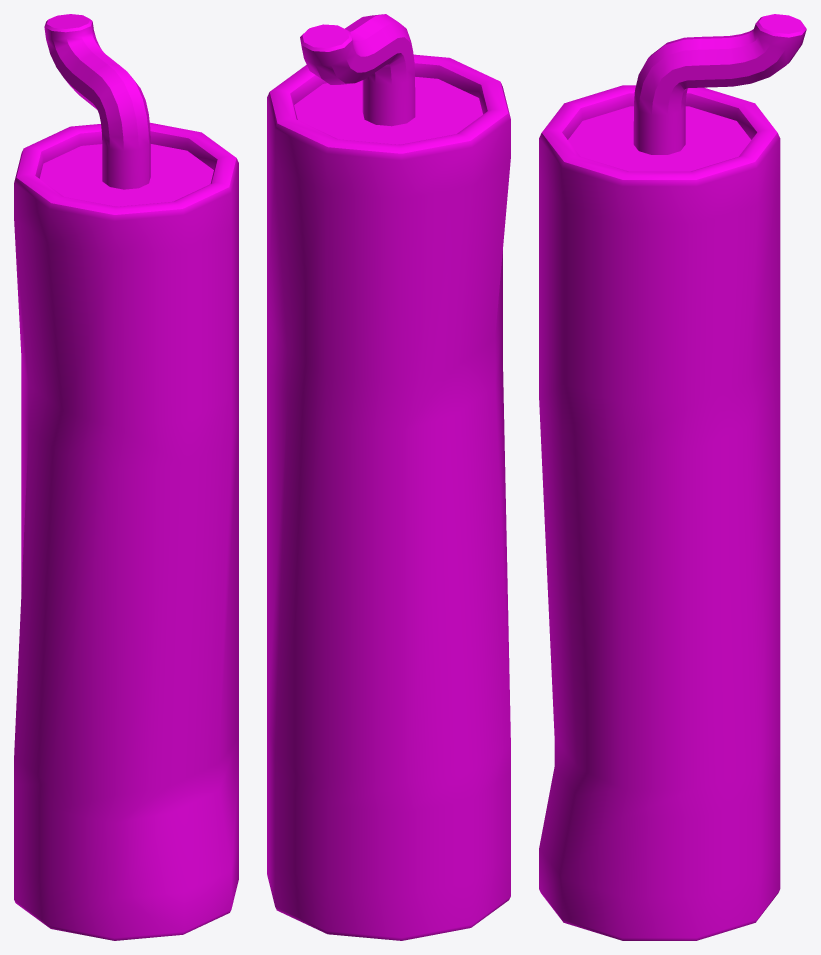
File: firecracker.fbx
3 views of the same model, side by side, from view 1: azimuth 30°, elevation 25°; view 2: azimuth 150°, elevation 25°; view 3: azimuth 270°, elevation 25° (orthographic). The views are drawn at different scales.
Visible parts, largest first — view 1: pCylinder1; view 2: pCylinder1; view 3: pCylinder1.
Boxes of the visible parts, box(x1,y1,x2,y2) form: pCylinder1: box(14, 14, 238, 940); pCylinder1: box(267, 14, 510, 940); pCylinder1: box(539, 14, 806, 940).
Size of the model in its own units: 1.9 by 7.99 by 2.22.
